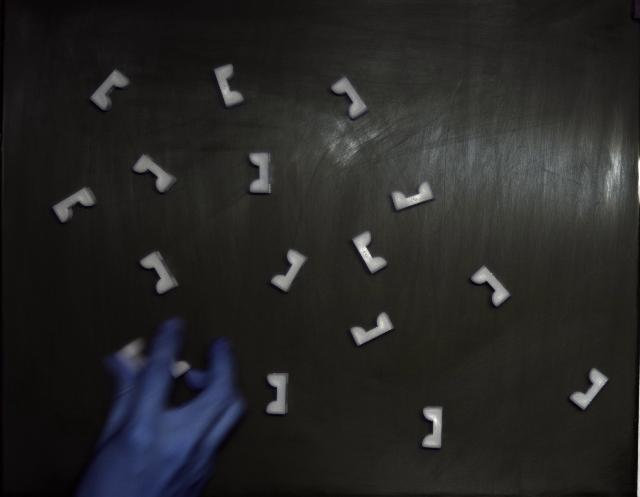third_side: (140, 251, 179, 295), (90, 70, 131, 111), (132, 154, 176, 192), (471, 266, 510, 308), (570, 369, 609, 410), (331, 76, 368, 119), (52, 188, 98, 222), (271, 250, 308, 292), (352, 231, 388, 274), (350, 312, 394, 346), (214, 64, 244, 108), (391, 181, 434, 211), (266, 374, 289, 415), (249, 152, 271, 194), (422, 408, 442, 449)
